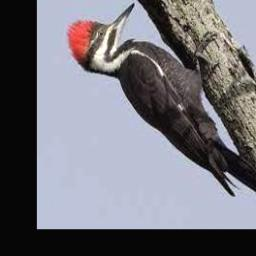Woodpecker: (67, 3, 256, 211)
